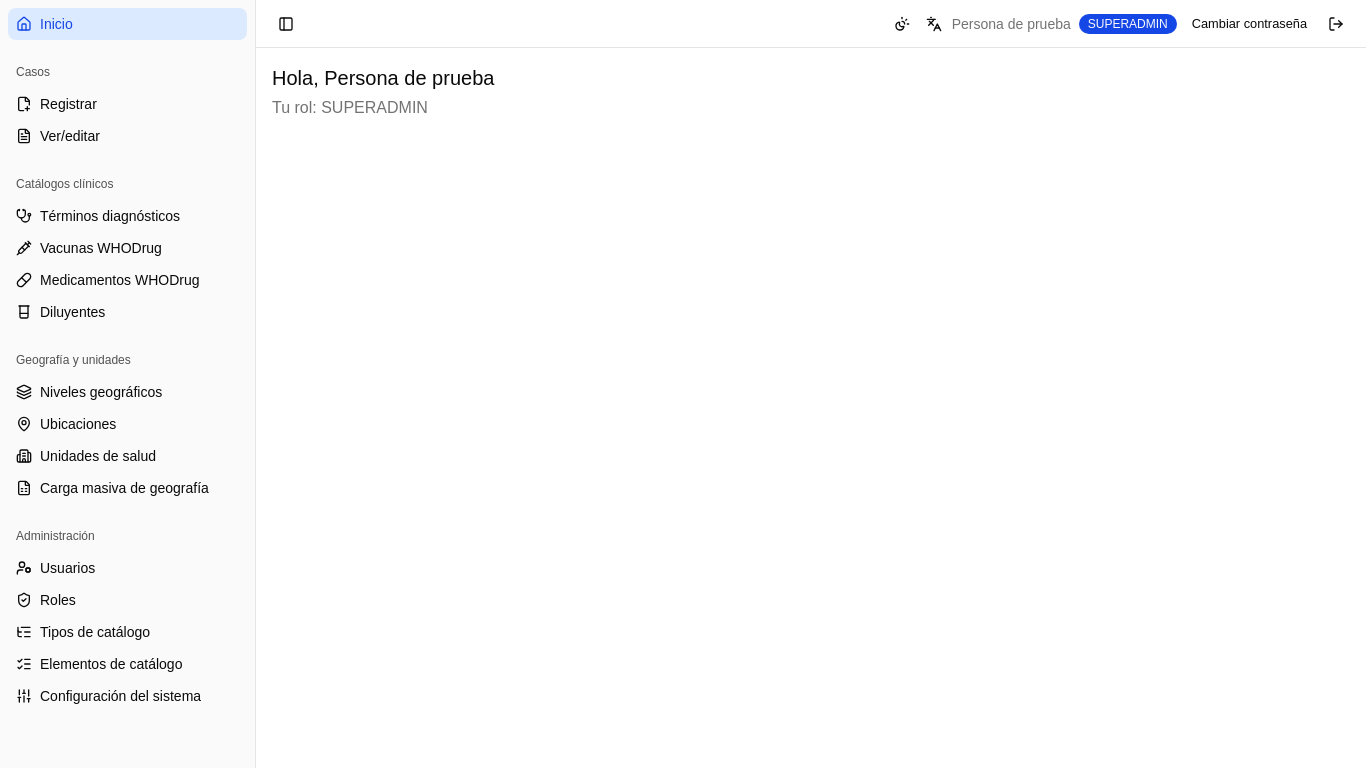
Scenario: Ruta /system-configs — navegación desde el sidebar › el enlace del sidebar navega a la pantalla de configuraciones
Click the link "Configuración del sistema" at (109, 696), box x1=16 y1=688 x2=201 y2=704
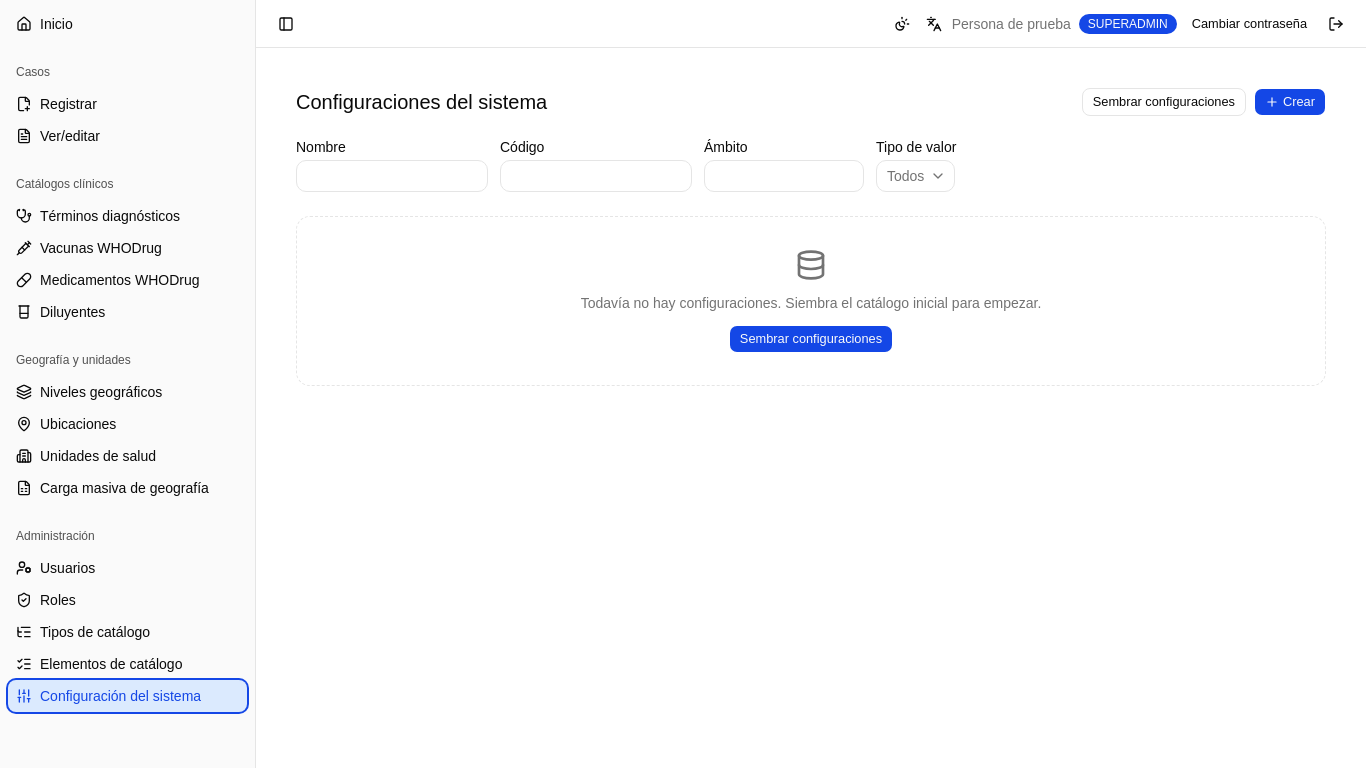
Now the heading "Configuraciones del sistema" is shown, box x1=296 y1=88 x2=547 y2=116
